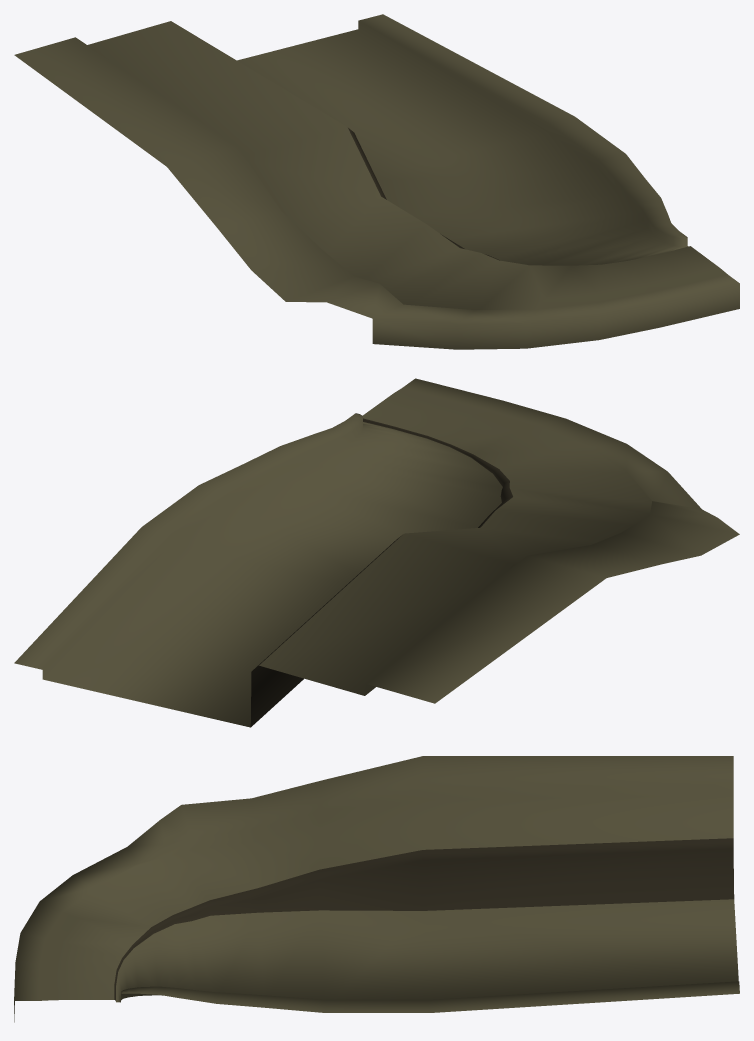
The model's file is Pavement.fbx.
The picture shows the model from 3 angles, top to bottom: view 1: azimuth 30°, elevation 25°; view 2: azimuth 150°, elevation 25°; view 3: azimuth 270°, elevation 25°; orthographic projection. The views are drawn at different scales.
Parts seen in each view (by area): view 1: Pavement; view 2: Pavement; view 3: Pavement.
Part boxes in pixels (left/top/right/bottom): Pavement: left=14, top=14, right=739, bottom=349; Pavement: left=14, top=378, right=739, bottom=727; Pavement: left=14, top=756, right=739, bottom=1022.
Size of the model in its own units: 13.58 by 20.43 by 2.78.
